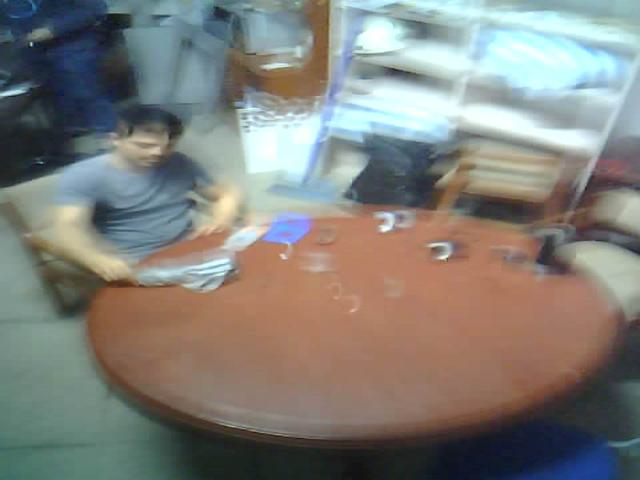person: (41, 115, 274, 307), (5, 3, 137, 129)
